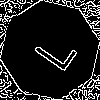L: (25, 25, 78, 74)
